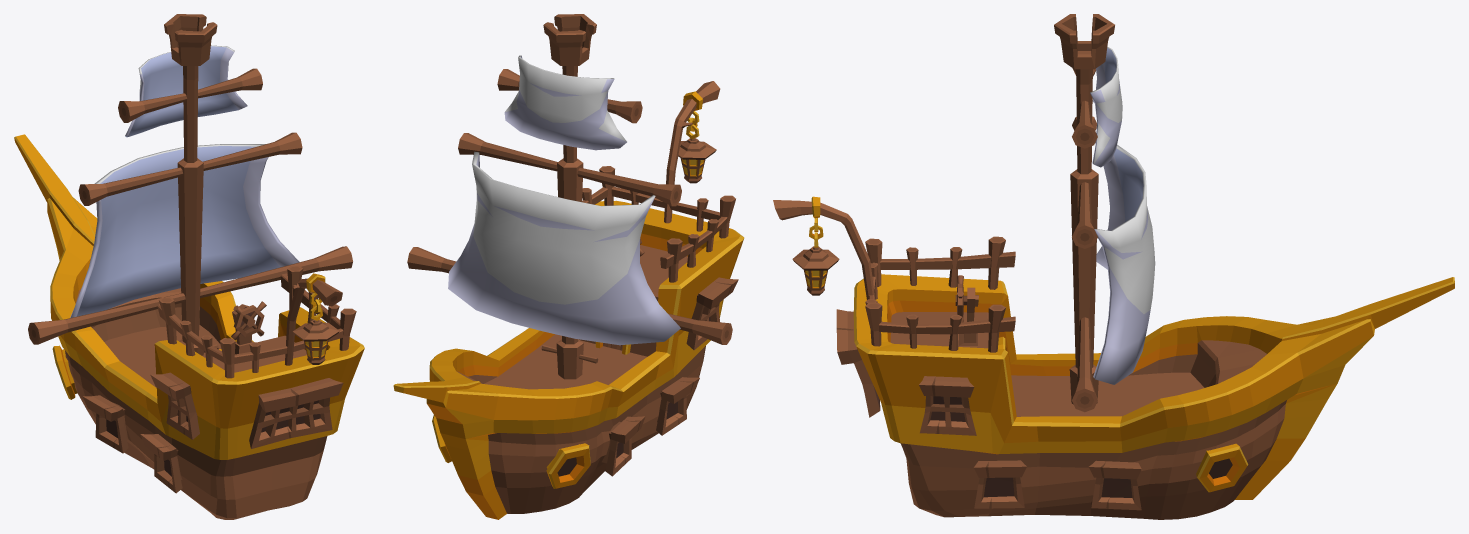
File: Prop_Ship_Pirate.fbx
3 views of the same model, side by side, from view 1: azimuth 30°, elevation 25°; view 2: azimuth 150°, elevation 25°; view 3: azimuth 270°, elevation 25° (orthographic). The views are drawn at different scales.
Parts seen in each view (by area): view 1: Model_Ship_Sail, Model_Ship, Model_Ship_Window_Big, Model_Ship_Balcony, Model_Ship_Window, Model_Ship_Lantern, Model_Ship_Wheel, Model_Ship_Anchor; view 2: Model_Ship_Sail, Model_Ship, Model_Ship_Balcony, Model_Ship_Lantern, Model_Ship_Window, Model_Ship_Anchor, Model_Ship_Window_Big; view 3: Model_Ship, Model_Ship_Sail, Model_Ship_Balcony, Model_Ship_Window_Big, Model_Ship_Window, Model_Ship_Lantern, Model_Ship_Anchor, Model_Ship_Wheel.
Part boxes in pixels (x1,y1,x2,y2): Model_Ship_Sail: (28, 14, 352, 355); Model_Ship: (14, 134, 364, 519); Model_Ship_Window_Big: (150, 372, 343, 448); Model_Ship_Balcony: (157, 265, 356, 378); Model_Ship_Window: (83, 395, 182, 493); Model_Ship_Lantern: (285, 273, 342, 365); Model_Ship_Wheel: (231, 301, 266, 354); Model_Ship_Anchor: (52, 345, 77, 399); Model_Ship_Sail: (407, 14, 732, 379); Model_Ship: (393, 200, 744, 519); Model_Ship_Balcony: (582, 166, 735, 282); Model_Ship_Lantern: (664, 81, 720, 223); Model_Ship_Window: (602, 377, 699, 476); Model_Ship_Anchor: (432, 415, 590, 488); Model_Ship_Window_Big: (686, 277, 738, 350); Model_Ship: (853, 274, 1454, 519); Model_Ship_Sail: (1054, 14, 1155, 412); Model_Ship_Balcony: (865, 236, 1015, 352); Model_Ship_Window_Big: (836, 309, 976, 435); Model_Ship_Window: (973, 460, 1141, 510); Model_Ship_Lantern: (773, 196, 875, 299); Model_Ship_Anchor: (1196, 443, 1248, 492); Model_Ship_Wheel: (955, 275, 978, 345).
Size of the model in its own units: 7215 by 9627 by 12576.
